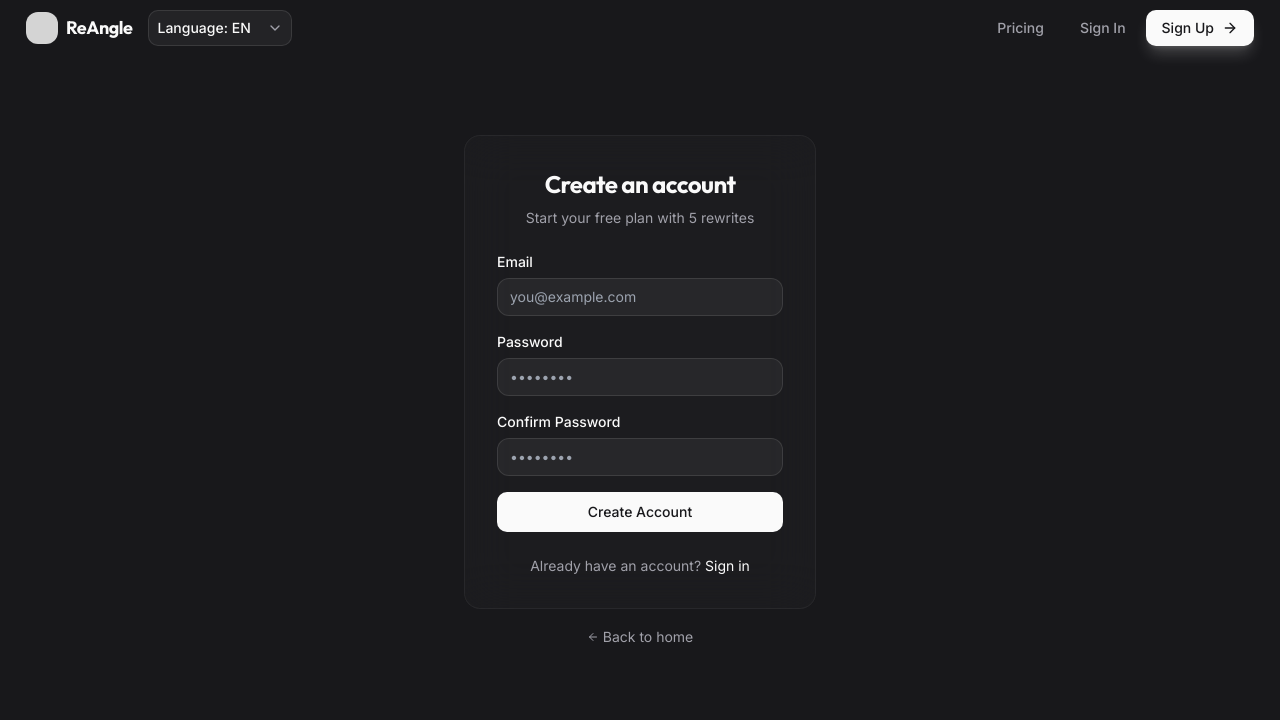
it: RegisterPage › shows error when password is too short
The width and height of the screenshot is (1280, 720).
Step 1. Type "test@example.com" into the field labelled "Email" → (640, 297), box 497,278 -> 783,316
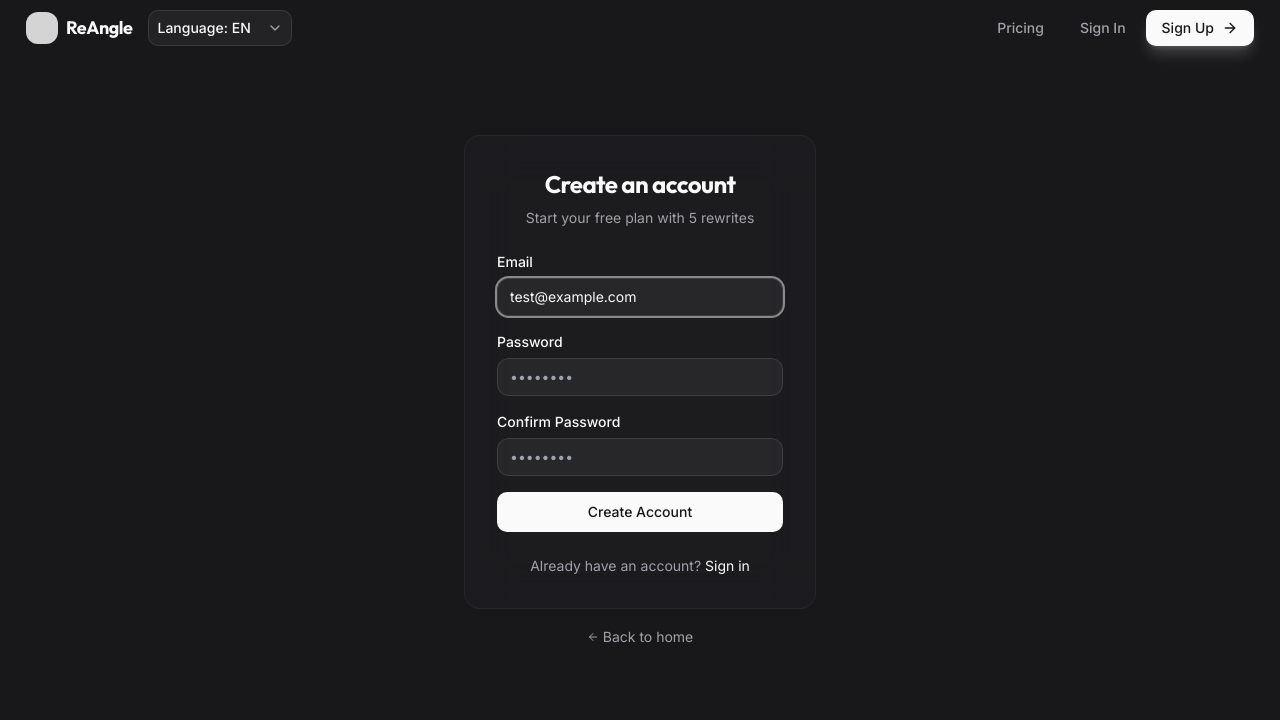
Step 2. Type "abc" into the password field labelled "Password" → (640, 377), box 497,358 -> 783,396
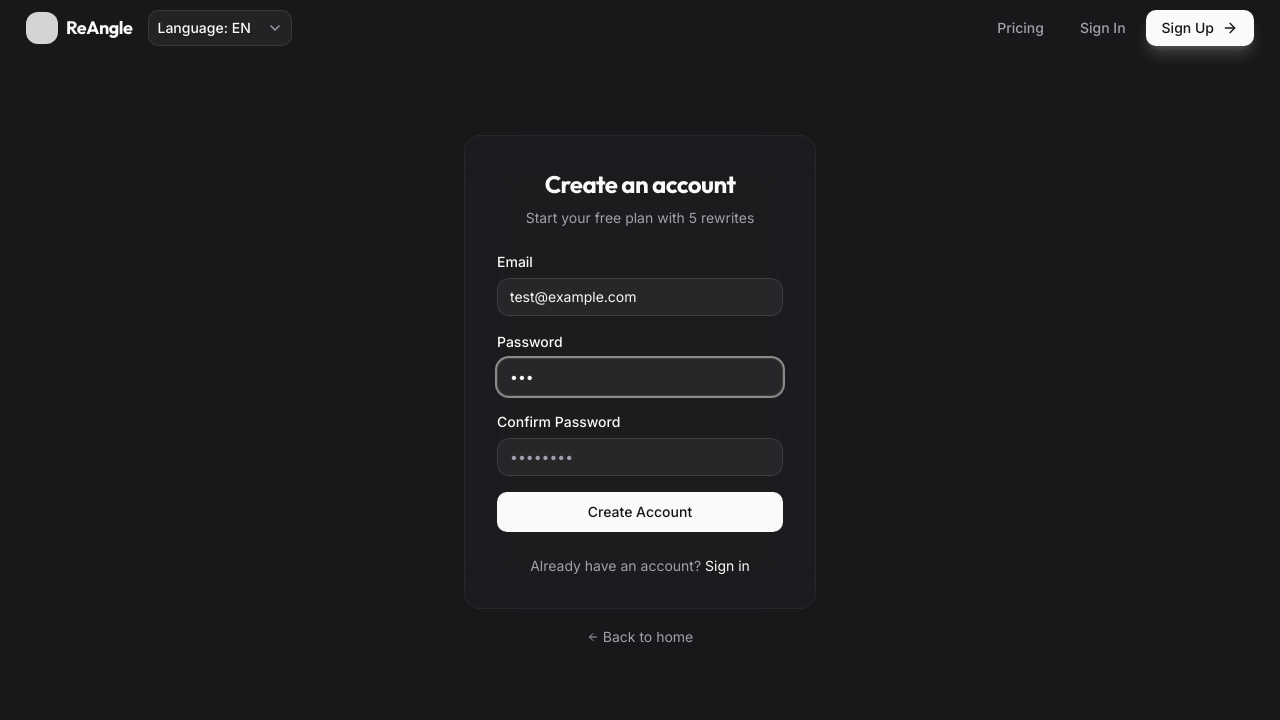
Step 3. Type "abc" into the password field labelled "Confirm Password" → (640, 457), box 497,438 -> 783,476
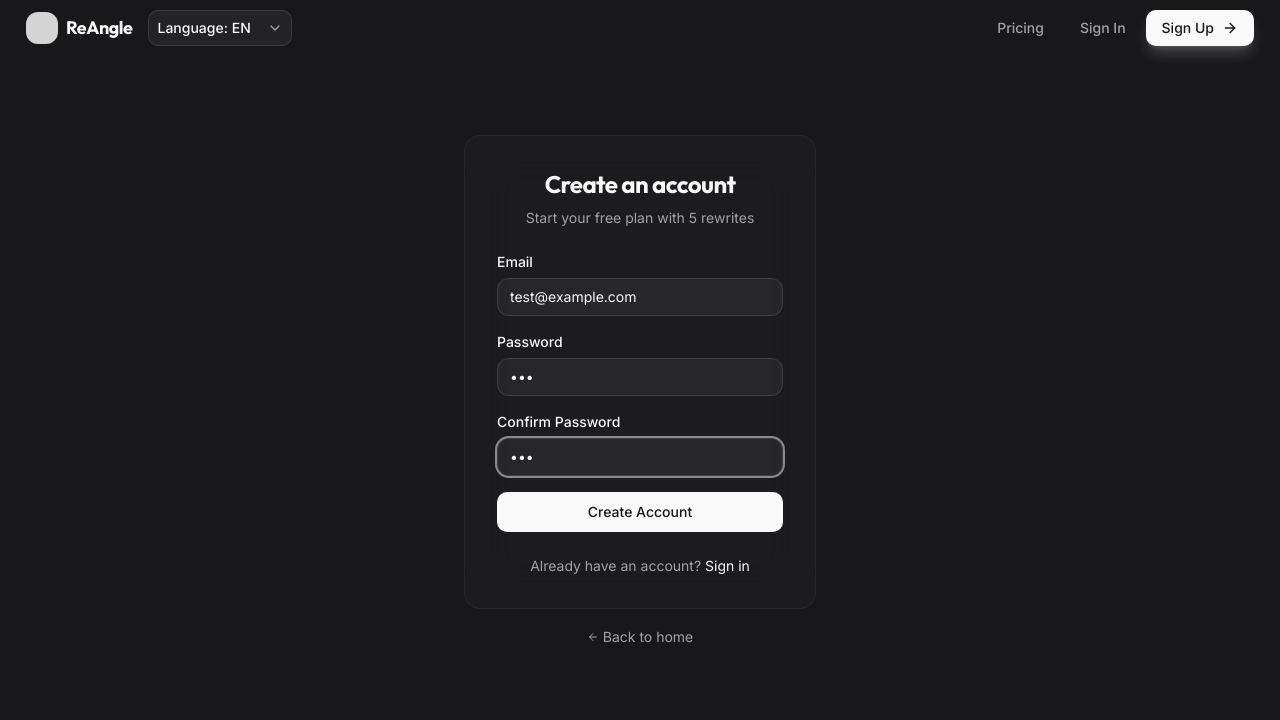
Step 4. Click the button "Create Account" → (640, 512), box 497,492 -> 783,532
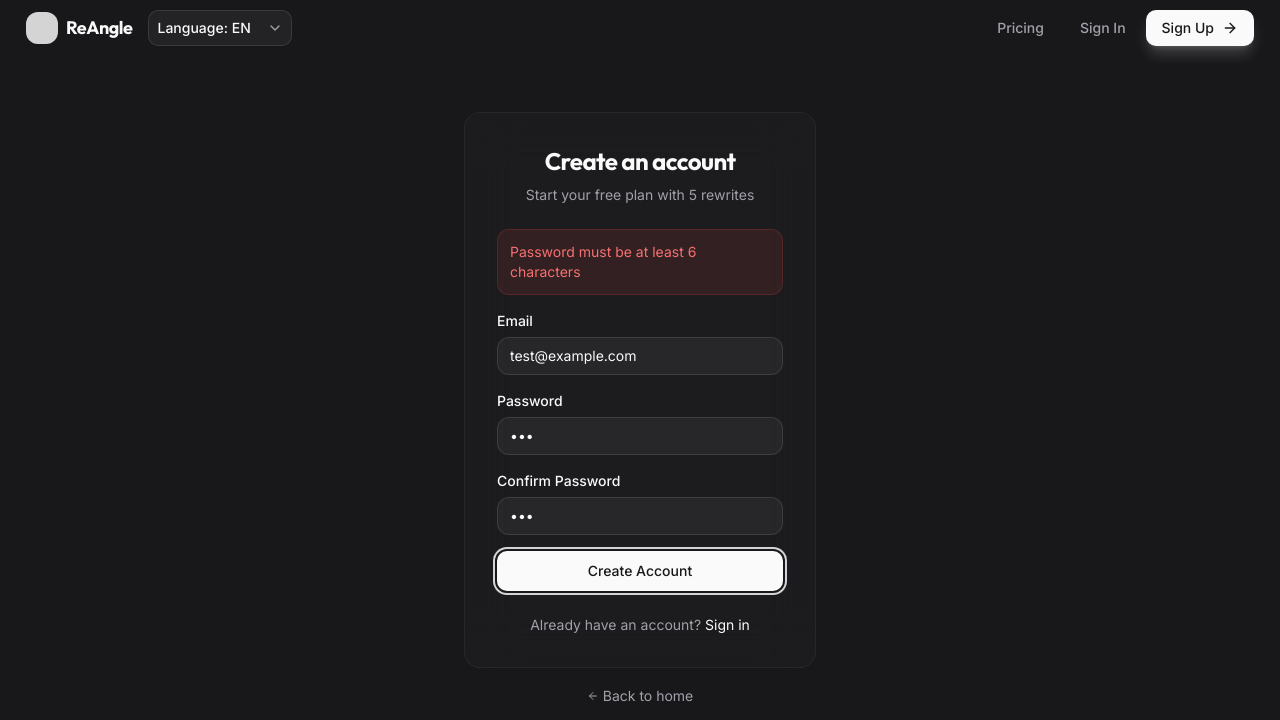
Result: the text "Password must be at least 6 characters" is shown at 497,229 -> 783,295
